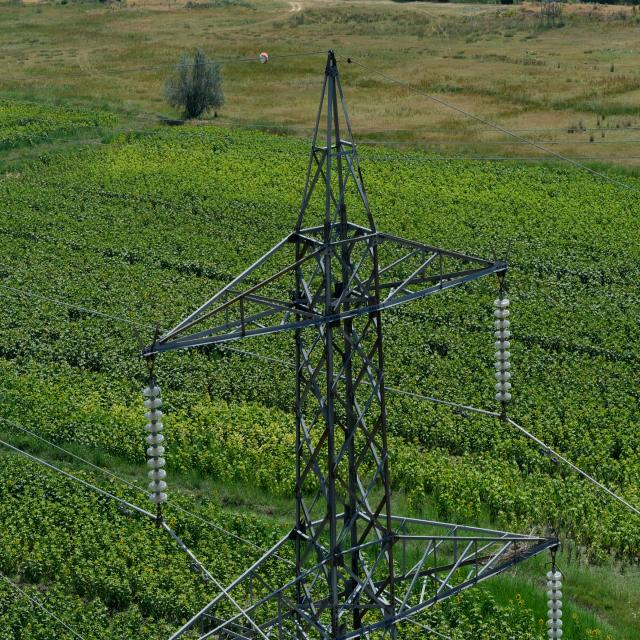voltage_line: (145, 61, 540, 640)
